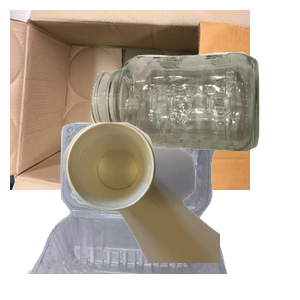cardboard: (10, 10, 250, 190)
glass: (88, 50, 300, 194)
plastic: (25, 120, 245, 300)
trash: (60, 120, 300, 300)
